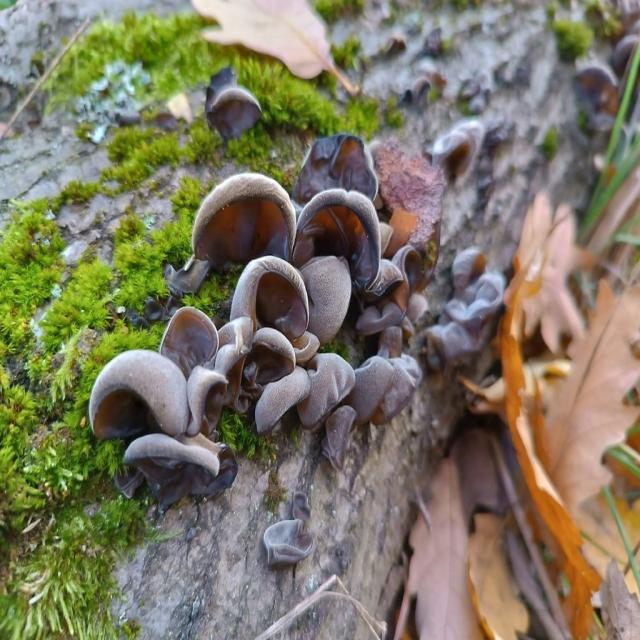Matang: (229, 253, 311, 415), (188, 168, 296, 274), (88, 347, 194, 443), (292, 188, 382, 298), (123, 433, 240, 509), (294, 130, 382, 217), (159, 302, 221, 383), (296, 348, 358, 429), (366, 345, 423, 429), (255, 362, 312, 439), (216, 314, 252, 419), (347, 349, 393, 428), (188, 366, 228, 441), (320, 404, 363, 472), (356, 252, 404, 312), (264, 516, 315, 567), (353, 302, 408, 340)
